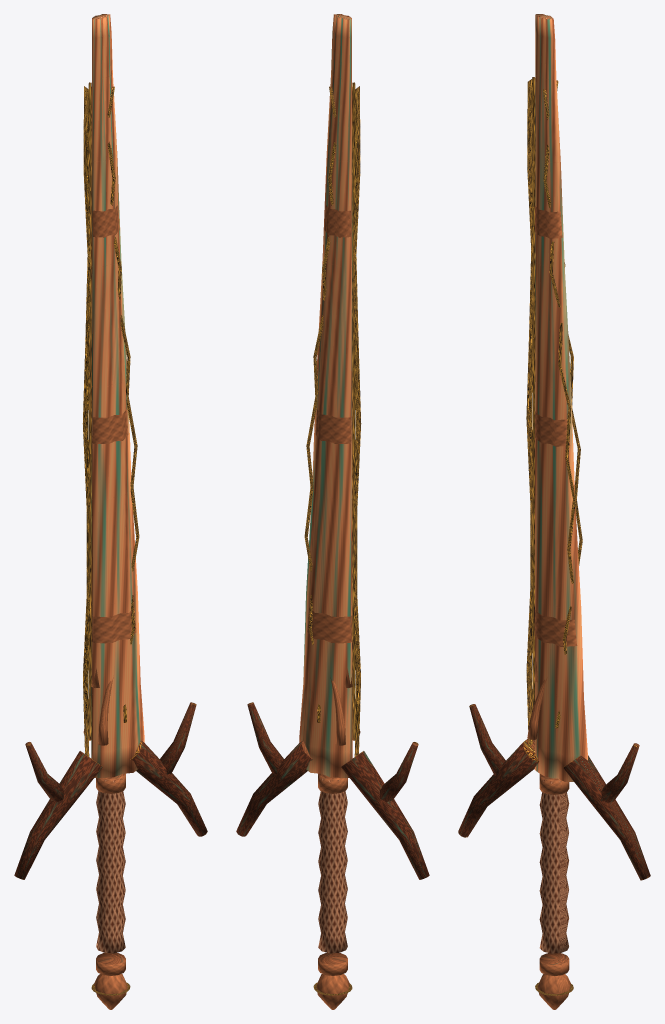
File: sword_02_copper_root.glb
The picture shows the model from 3 angles, left to right: view 1: azimuth 30°, elevation 25°; view 2: azimuth 150°, elevation 25°; view 3: azimuth 330°, elevation 25°; orthographic projection.
Visible parts, largest first — view 1: Blade_CopperFangSheath, Guard_ForkedStagHorns, Grip_CopperCoilWrap, Inlay_VoltaicSeams, Core_PetrifiedRootCore, Ferrule_GalvanicCopper, Pommel_GalvanicBulb, Sparks_AnodicFinials; view 2: Blade_CopperFangSheath, Guard_ForkedStagHorns, Grip_CopperCoilWrap, Inlay_VoltaicSeams, Core_PetrifiedRootCore, Ferrule_GalvanicCopper, Pommel_GalvanicBulb, Sparks_AnodicFinials; view 3: Blade_CopperFangSheath, Guard_ForkedStagHorns, Inlay_VoltaicSeams, Grip_CopperCoilWrap, Core_PetrifiedRootCore, Ferrule_GalvanicCopper, Pommel_GalvanicBulb, Sparks_AnodicFinials.
Part boxes in pixels (x1,y1,x2,y2): Blade_CopperFangSheath: (91, 14, 144, 777); Guard_ForkedStagHorns: (14, 702, 207, 879); Grip_CopperCoilWrap: (96, 775, 125, 953); Inlay_VoltaicSeams: (88, 82, 139, 740); Core_PetrifiedRootCore: (82, 86, 90, 756); Ferrule_GalvanicCopper: (96, 773, 125, 975); Pommel_GalvanicBulb: (91, 974, 130, 1009); Sparks_AnodicFinials: (83, 668, 113, 745); Blade_CopperFangSheath: (299, 14, 352, 777); Guard_ForkedStagHorns: (236, 702, 429, 879); Grip_CopperCoilWrap: (318, 775, 347, 953); Inlay_VoltaicSeams: (304, 82, 355, 740); Core_PetrifiedRootCore: (353, 86, 361, 756); Ferrule_GalvanicCopper: (318, 773, 347, 975); Pommel_GalvanicBulb: (313, 974, 352, 1009); Sparks_AnodicFinials: (330, 668, 360, 745); Blade_CopperFangSheath: (534, 14, 587, 781); Guard_ForkedStagHorns: (458, 704, 650, 880); Inlay_VoltaicSeams: (532, 77, 582, 728); Grip_CopperCoilWrap: (539, 776, 569, 953); Core_PetrifiedRootCore: (526, 79, 532, 746); Ferrule_GalvanicCopper: (539, 774, 569, 975); Pommel_GalvanicBulb: (535, 974, 573, 1009); Sparks_AnodicFinials: (527, 662, 547, 739).
Size of the model in its own units: 0.5242 by 2.6 by 0.0942.
Materials: 1 (1 with a texture image).
